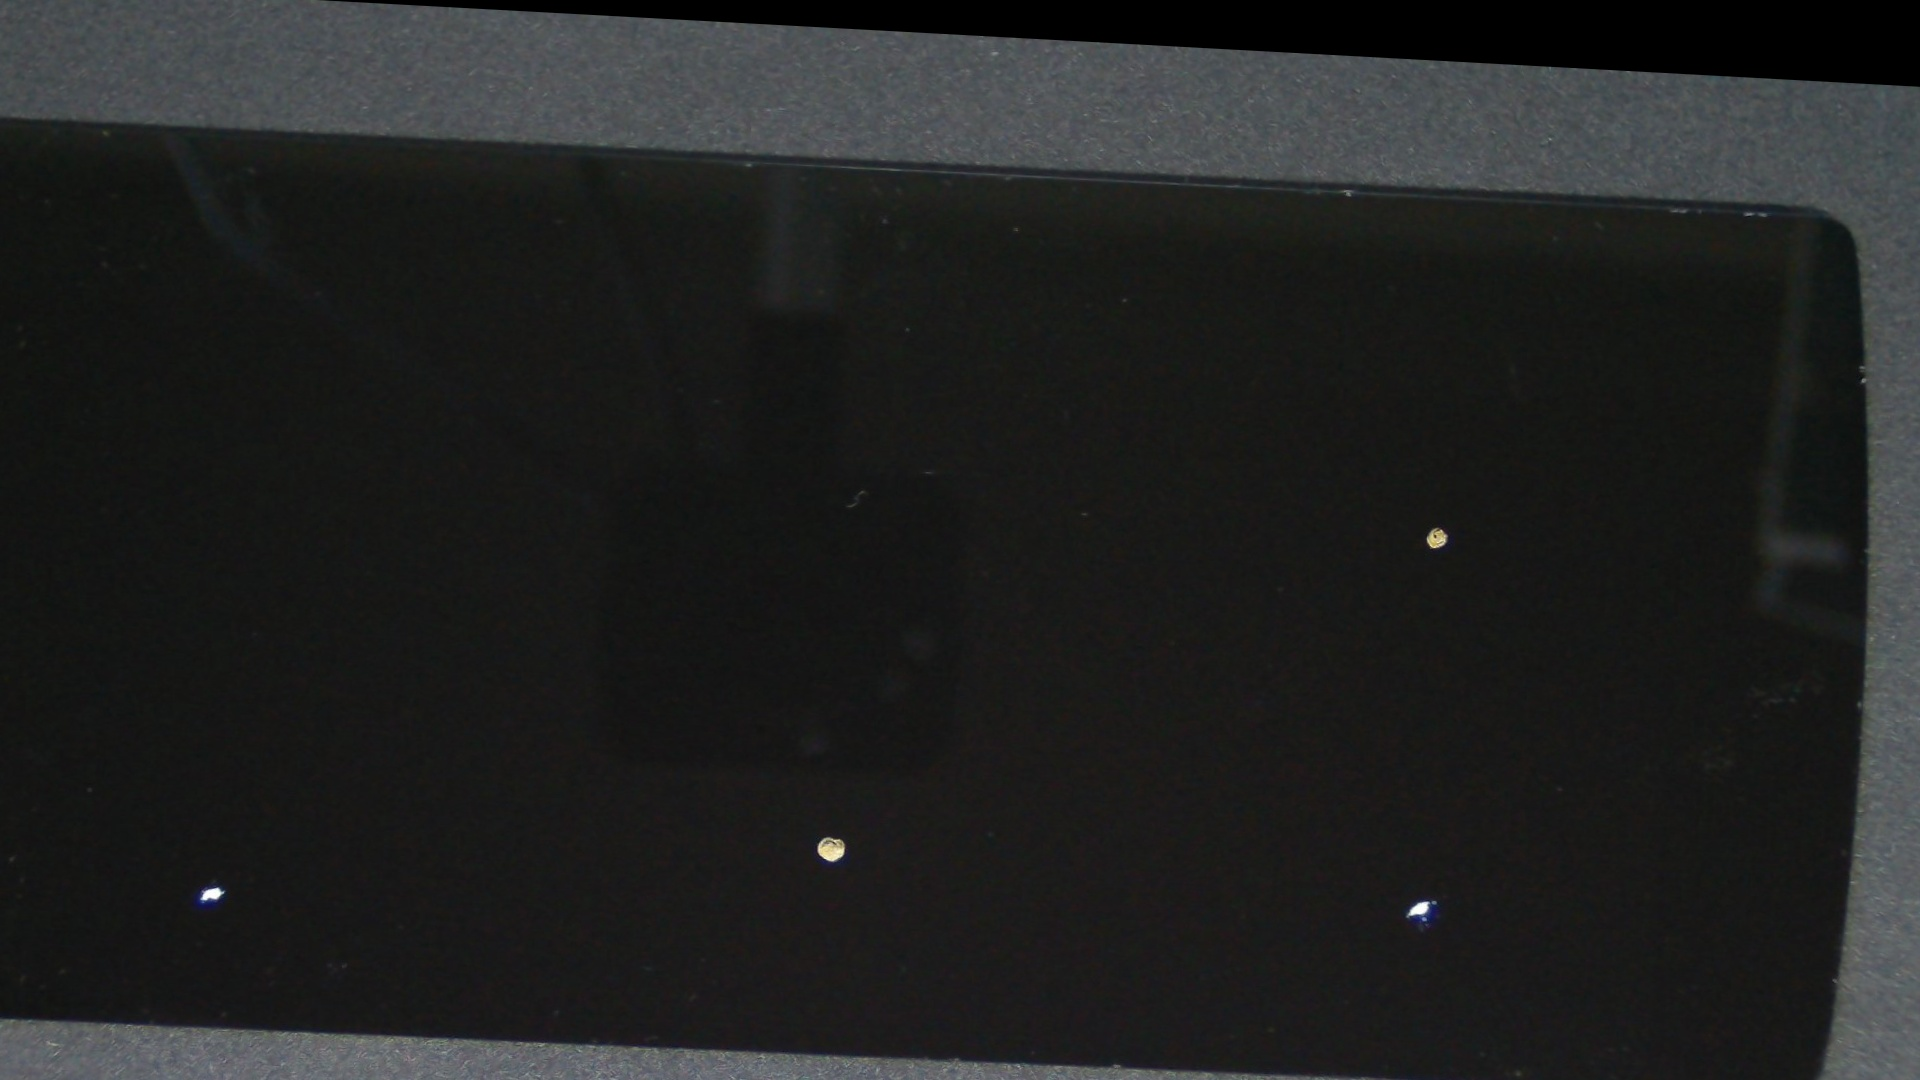oil: (583, 436, 1920, 1080), (281, 404, 1382, 1080), (599, 248, 1920, 787), (0, 427, 475, 1080)
